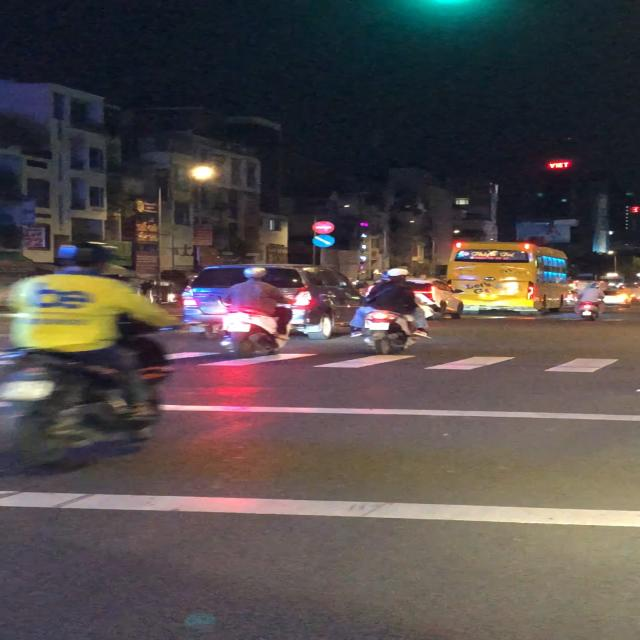Bien bao cam di nguoc chieu: (312, 219, 338, 234)
Bien bao huong phai di vong chuong ngai vat: (312, 234, 336, 248)
